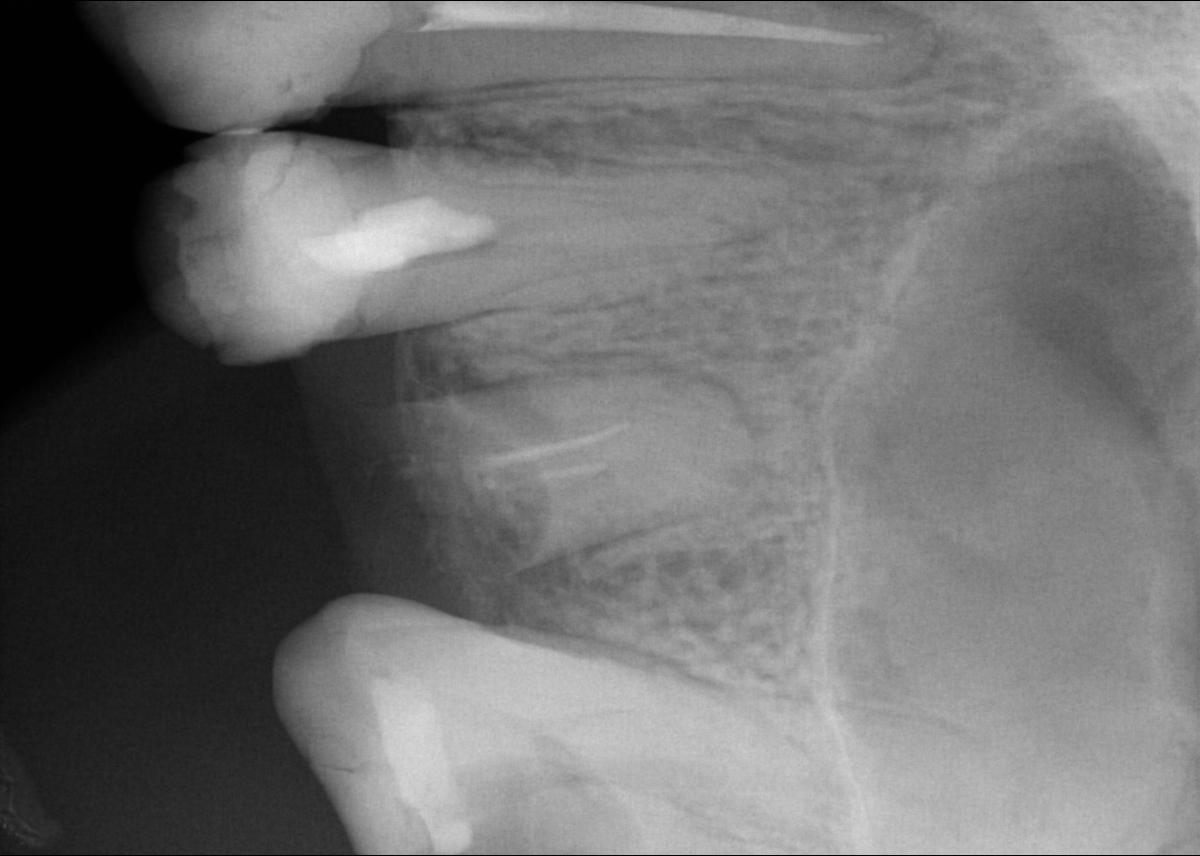Furcation Involvement: (828, 0, 950, 87)
